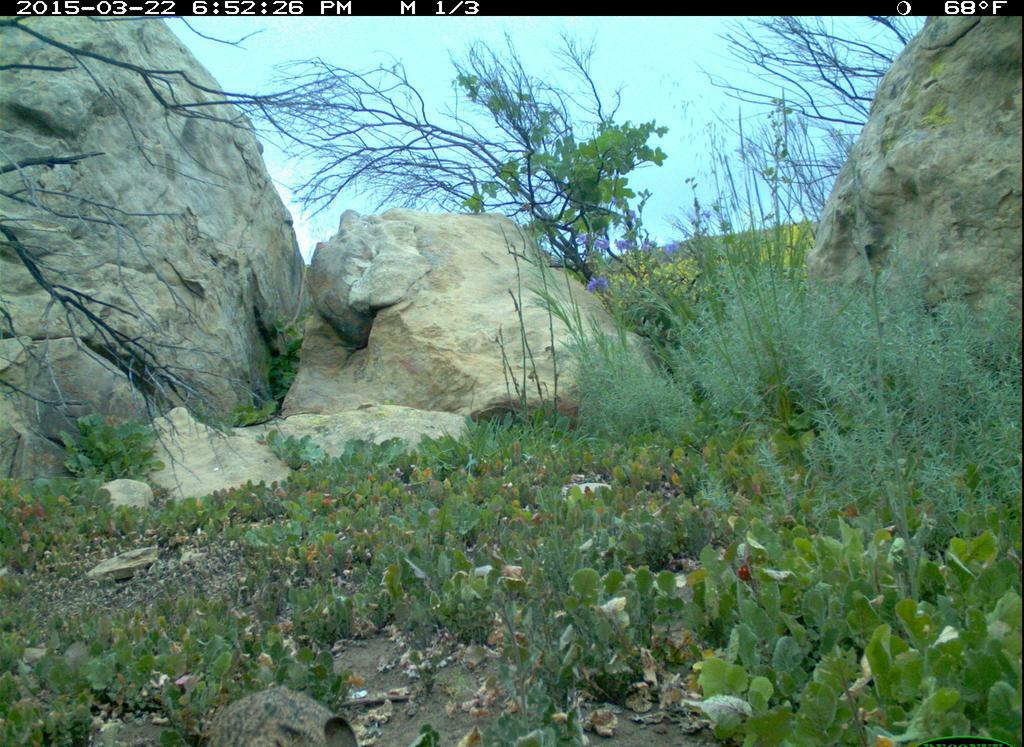rabbit: (184, 673, 388, 744)
